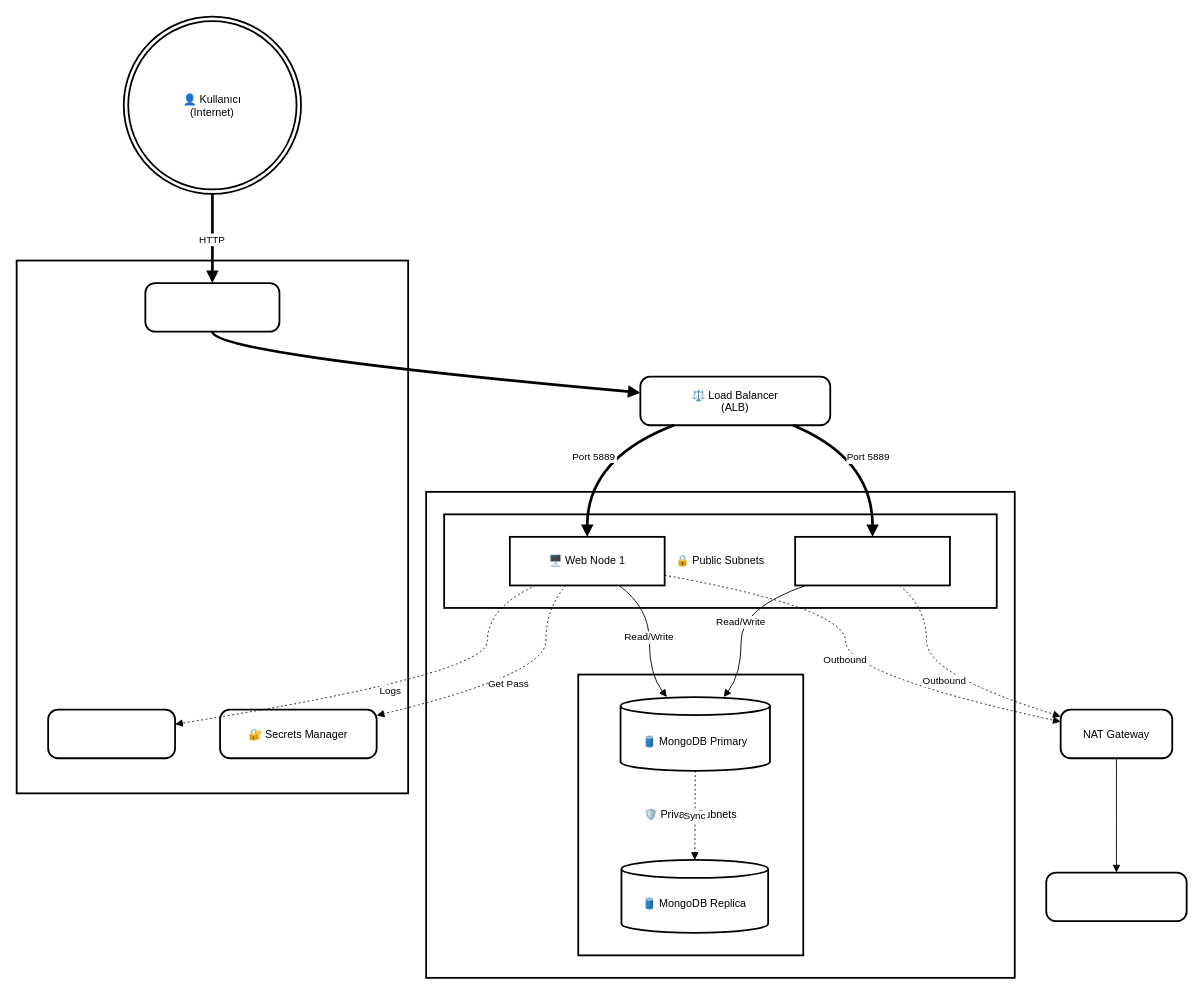
The diagram is 1202 pixels wide and 994 high, and some of its shapes have lost their labels. Here are the shapes that lost their labels. From the top down, the box of each, then its label:
(144, 282, 280, 332): 🛡️ WAF Firewall
(15, 259, 409, 794): 🛠️ AWS Services
(794, 536, 950, 586): 🖥️ Web Node 2
(47, 708, 176, 759): 📈 CloudWatch
(1045, 871, 1187, 922): Internet Gateway
